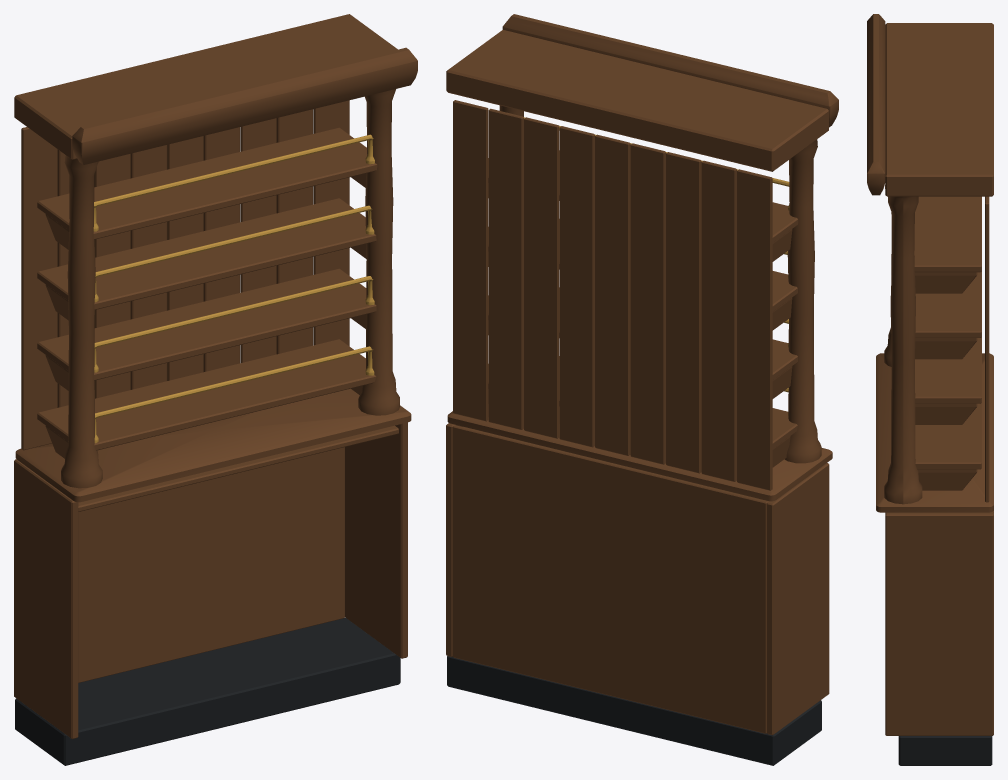
File: BackBarSpirits.obj
3 views of the same model, side by side, from view 1: azimuth 30°, elevation 25°; view 2: azimuth 150°, elevation 25°; view 3: azimuth 270°, elevation 25° (orthographic). The views are drawn at different scales.
Visible parts, largest first — view 1: back-bar-spirit-shelf-run_1, back-bar-spirit-shelf-run_0, back-bar-spirit-shelf-run_2; view 2: back-bar-spirit-shelf-run_1, back-bar-spirit-shelf-run_0; view 3: back-bar-spirit-shelf-run_1, back-bar-spirit-shelf-run_0.
Part boxes in pixels (<box>): back-bar-spirit-shelf-run_1: <box>14,14,417,738</box>; back-bar-spirit-shelf-run_0: <box>15,617,400,765</box>; back-bar-spirit-shelf-run_2: <box>93,134,374,443</box>; back-bar-spirit-shelf-run_1: <box>446,14,838,735</box>; back-bar-spirit-shelf-run_0: <box>447,656,821,765</box>; back-bar-spirit-shelf-run_1: <box>867,14,993,735</box>; back-bar-spirit-shelf-run_0: <box>898,736,992,765</box>.
Size of the model in its own units: 1.2 by 2.2 by 0.42.
